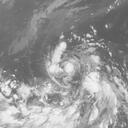cyclone: (48, 49, 94, 94)
